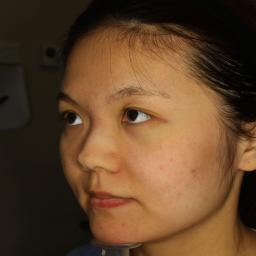ance: (80, 86, 100, 110), (180, 134, 204, 154), (104, 146, 120, 164), (197, 192, 213, 208), (94, 217, 108, 233), (172, 188, 188, 200), (156, 160, 168, 174), (190, 168, 198, 182), (119, 219, 129, 229), (221, 179, 223, 181)
